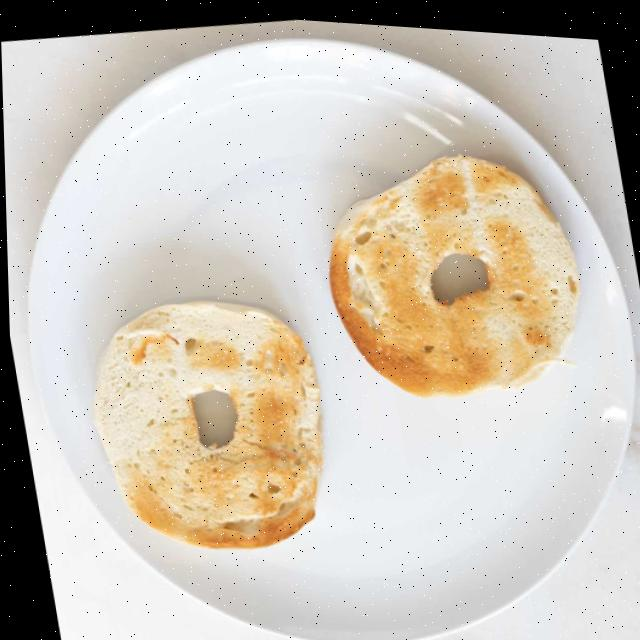Bagel: (327, 150, 577, 391), (91, 299, 320, 546)
